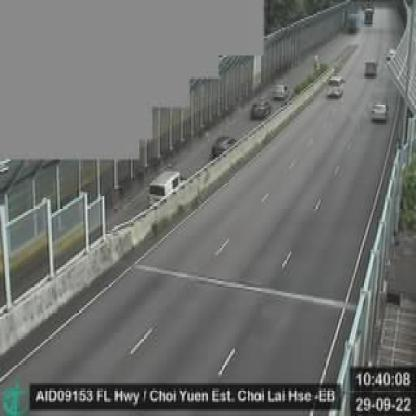Car: (145, 164, 188, 204), (208, 137, 239, 161), (247, 99, 273, 120), (324, 73, 344, 97), (369, 99, 389, 123), (363, 57, 378, 80), (270, 82, 288, 100)
